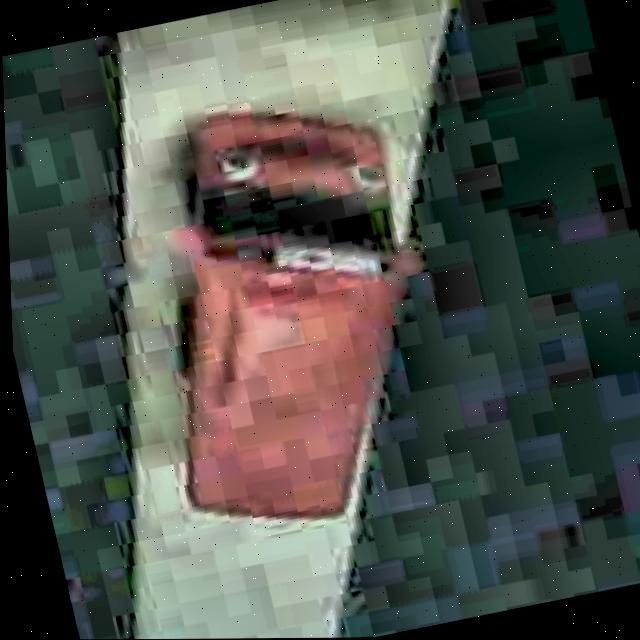bus: (100, 78, 477, 549)
